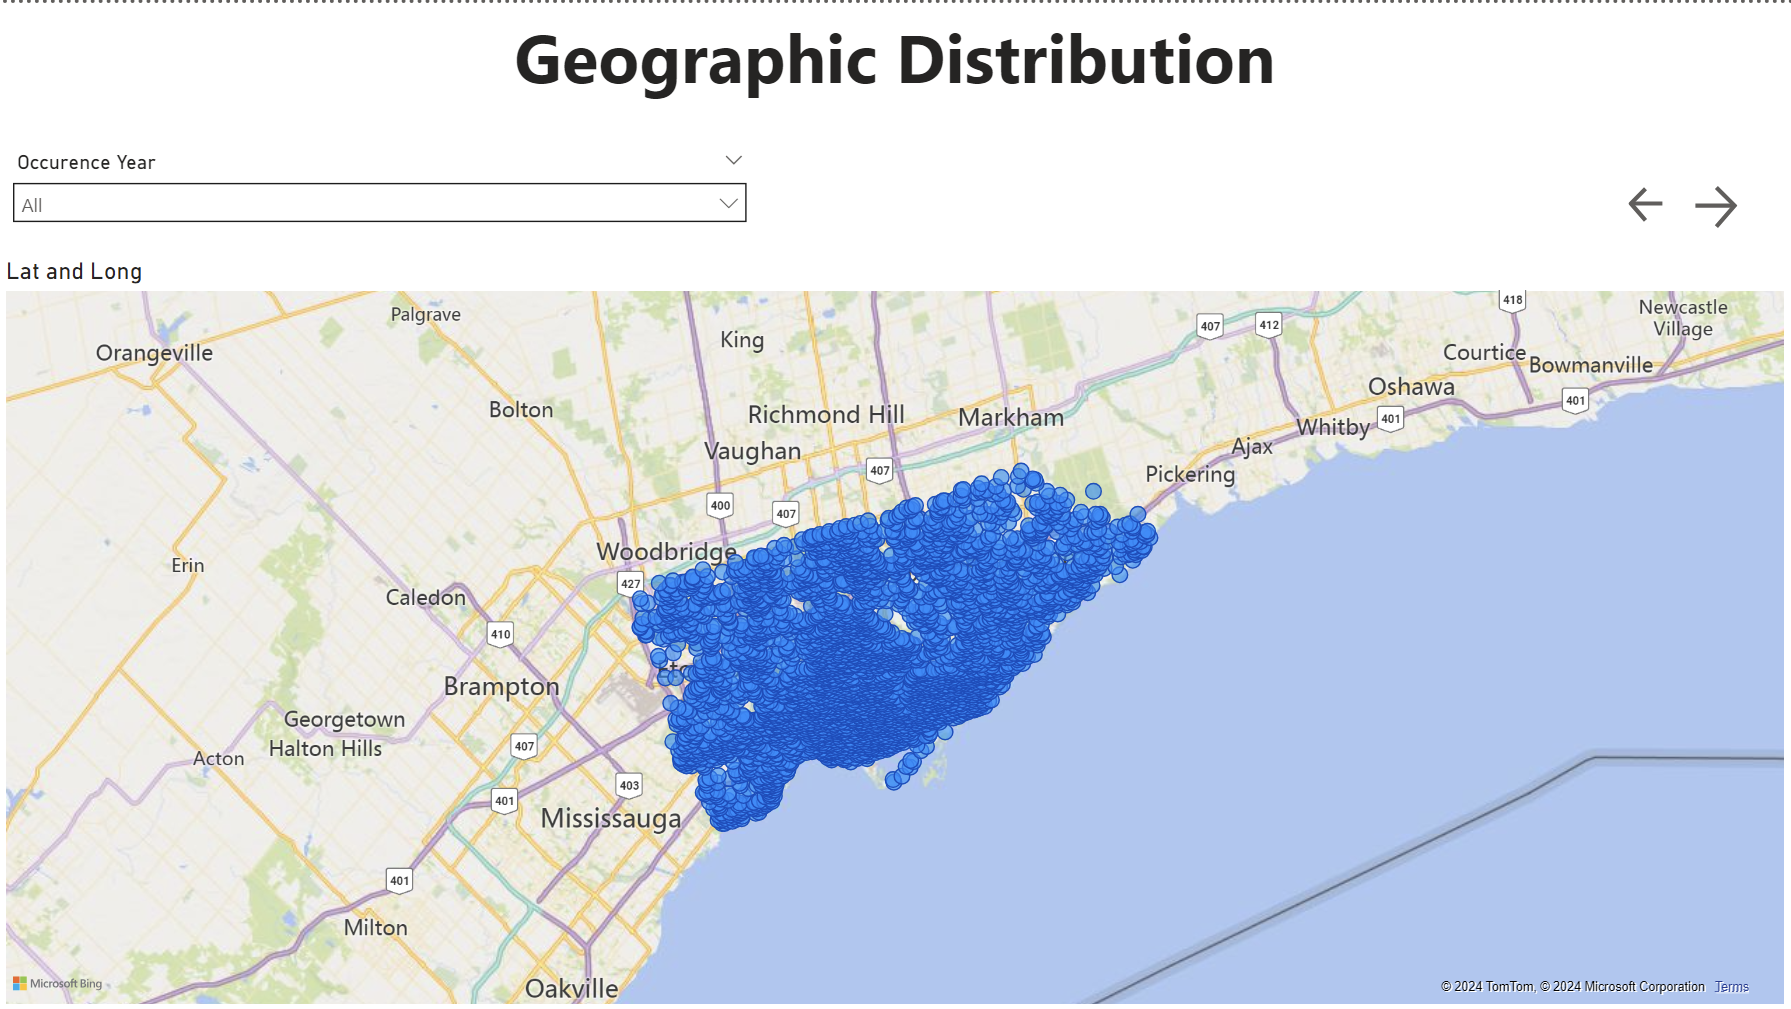

The page's visual inventory and layout, read from the dashboard file:
{"tool":"powerbi","page":{"name":"Geographic","canvas":[1280,720],"ordinal":2},"visuals":[{"type":"textbox","box":[0,0,1280,82.9],"z":0},{"type":"map","fields":{"Y":["Bicycle_Thefts.LAT_WGS84"],"X":["Bicycle_Thefts.LONG_WGS84"]},"box":[0,181.4,1280,538.6],"z":1},{"type":"slicer","fields":{"Values":["Bicycle_Thefts.OCC_YEAR"]},"box":[0,100,543.8,81.2],"z":2},{"type":"actionButton","box":[1160,127.5,46.2,33.8],"z":3},{"type":"actionButton","box":[1206.2,125,50,40],"z":4}]}

Visuals, with their boxes in screenshot pixels (x1, y1, x2, y2), scaled from the page's 1280x720 canvas onto the 1791x1009 screenshot:
textbox: [x1=0, y1=0, x2=1790, y2=116]
map - Bicycle_Thefts.LAT_WGS84 x Bicycle_Thefts.LONG_WGS84: [x1=0, y1=254, x2=1790, y2=1008]
slicer - Bicycle_Thefts.OCC_YEAR: [x1=0, y1=140, x2=761, y2=254]
actionButton: [x1=1623, y1=179, x2=1688, y2=226]
actionButton: [x1=1688, y1=175, x2=1758, y2=231]
